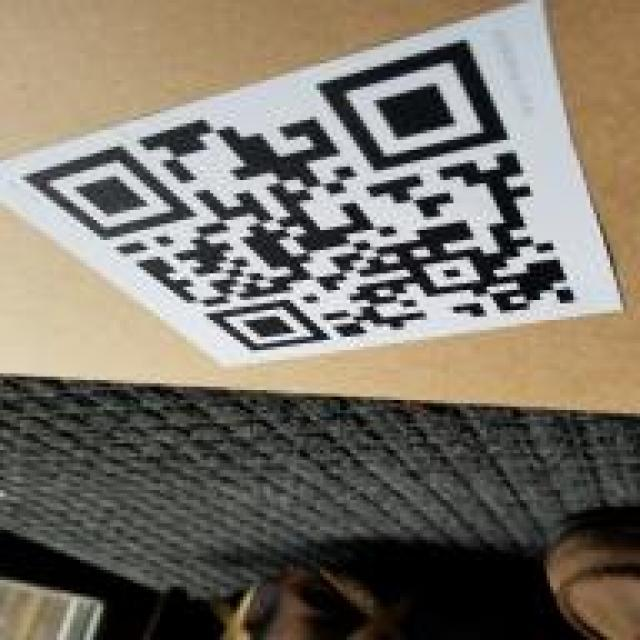qr_code: (21, 37, 575, 352)
